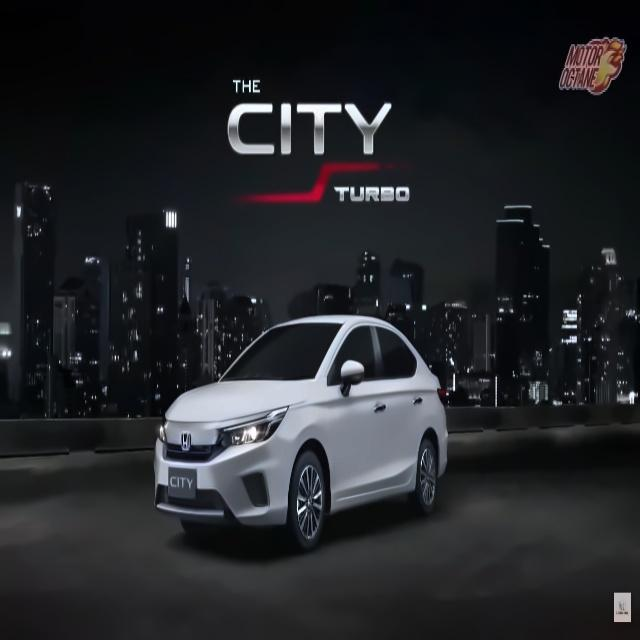Car hood: (160, 376, 318, 428)
Fender - -F-L-: (276, 372, 341, 515)
Fender - -R-L-: (409, 370, 445, 495)
Front bumper: (145, 445, 303, 530)
Headlight - -L-: (213, 404, 292, 452)
Headlight - -R-: (148, 421, 177, 449)
Passenger-s door - -F-L-: (328, 310, 388, 502)
Passenger-s door - -R-L-: (385, 323, 433, 492)
Rear bumper: (432, 436, 456, 482)
Rear light - -L-: (425, 378, 455, 407)
Side bumper - -L-: (324, 469, 422, 521)
Side mirror - -L-: (338, 355, 370, 399)
